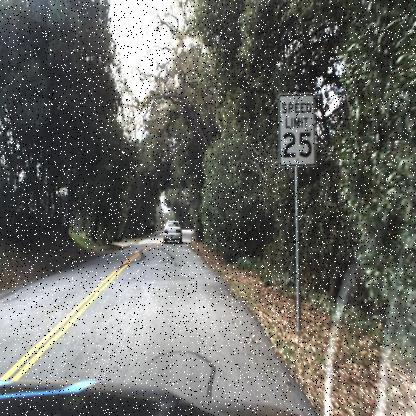car: (160, 214, 184, 247)
